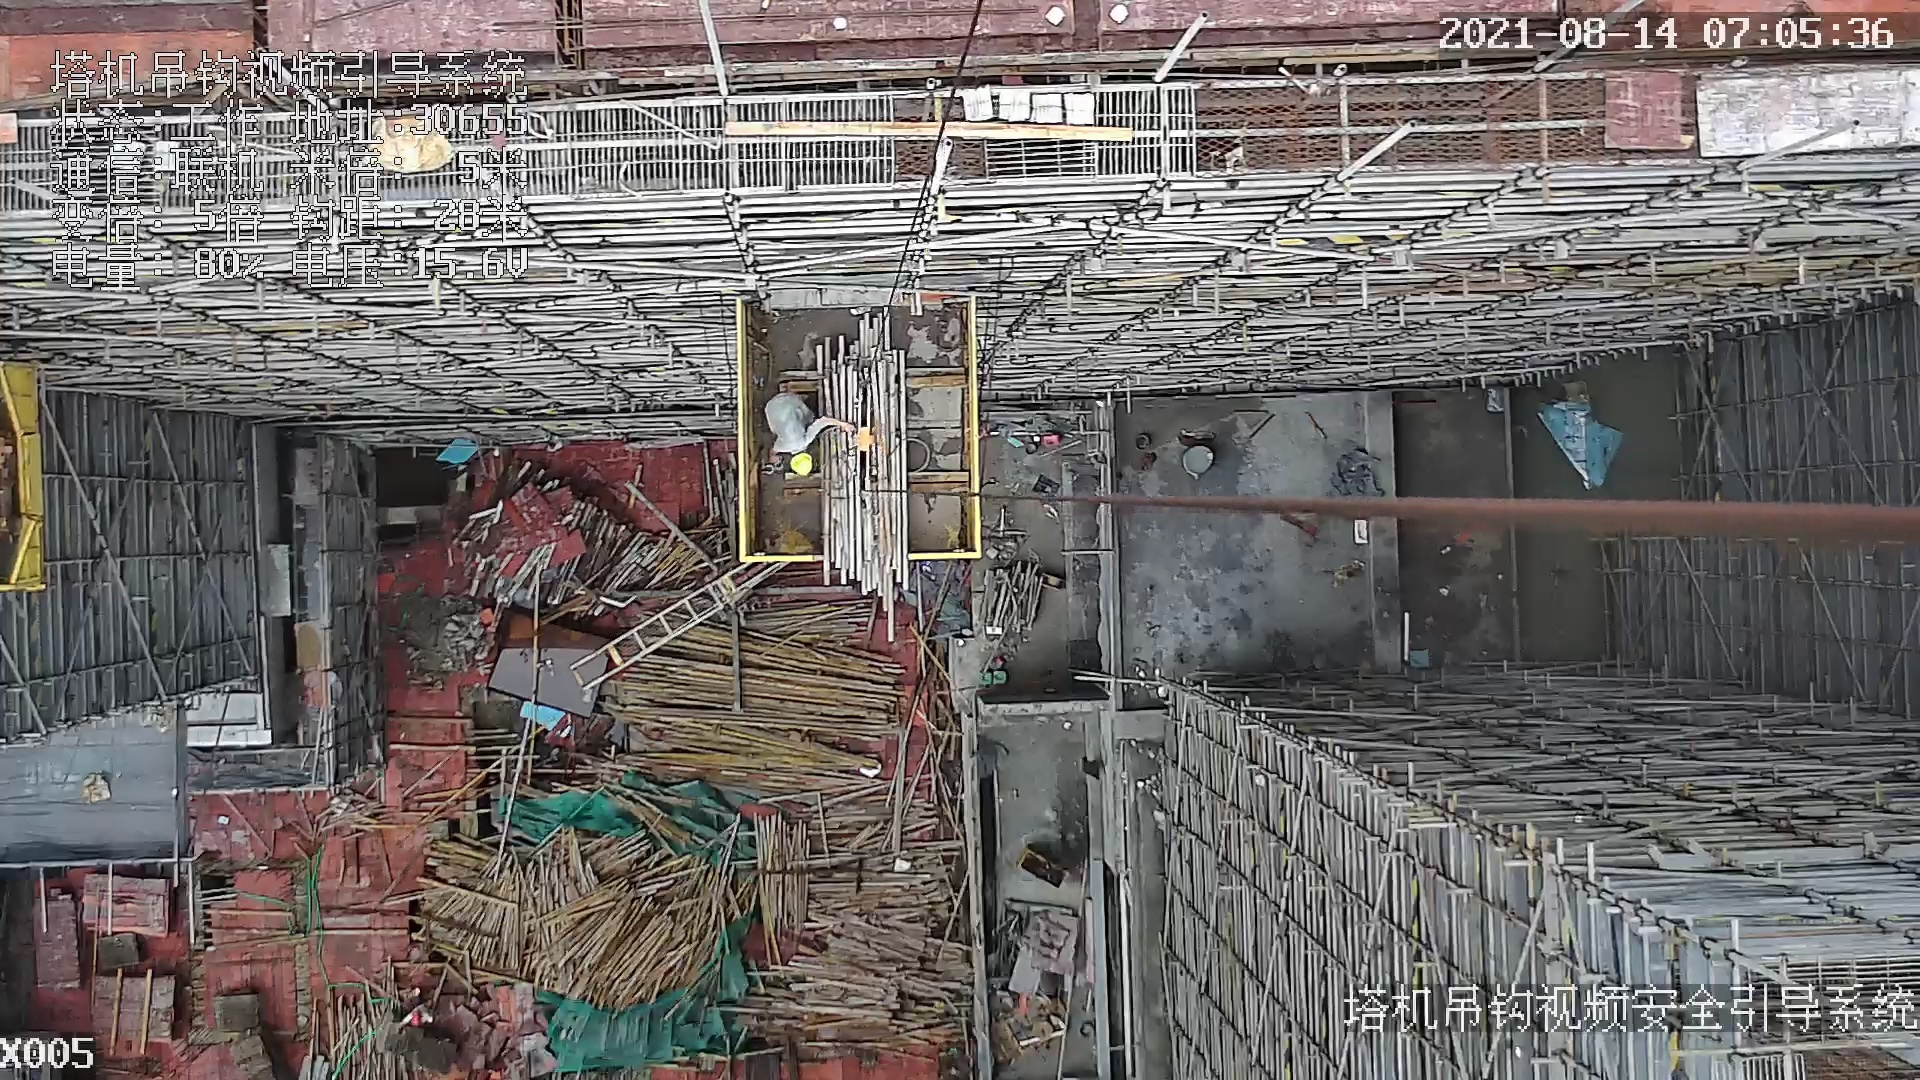helmet: (789, 451, 814, 477)
hook: (845, 382, 878, 505)
person: (767, 392, 856, 476)
